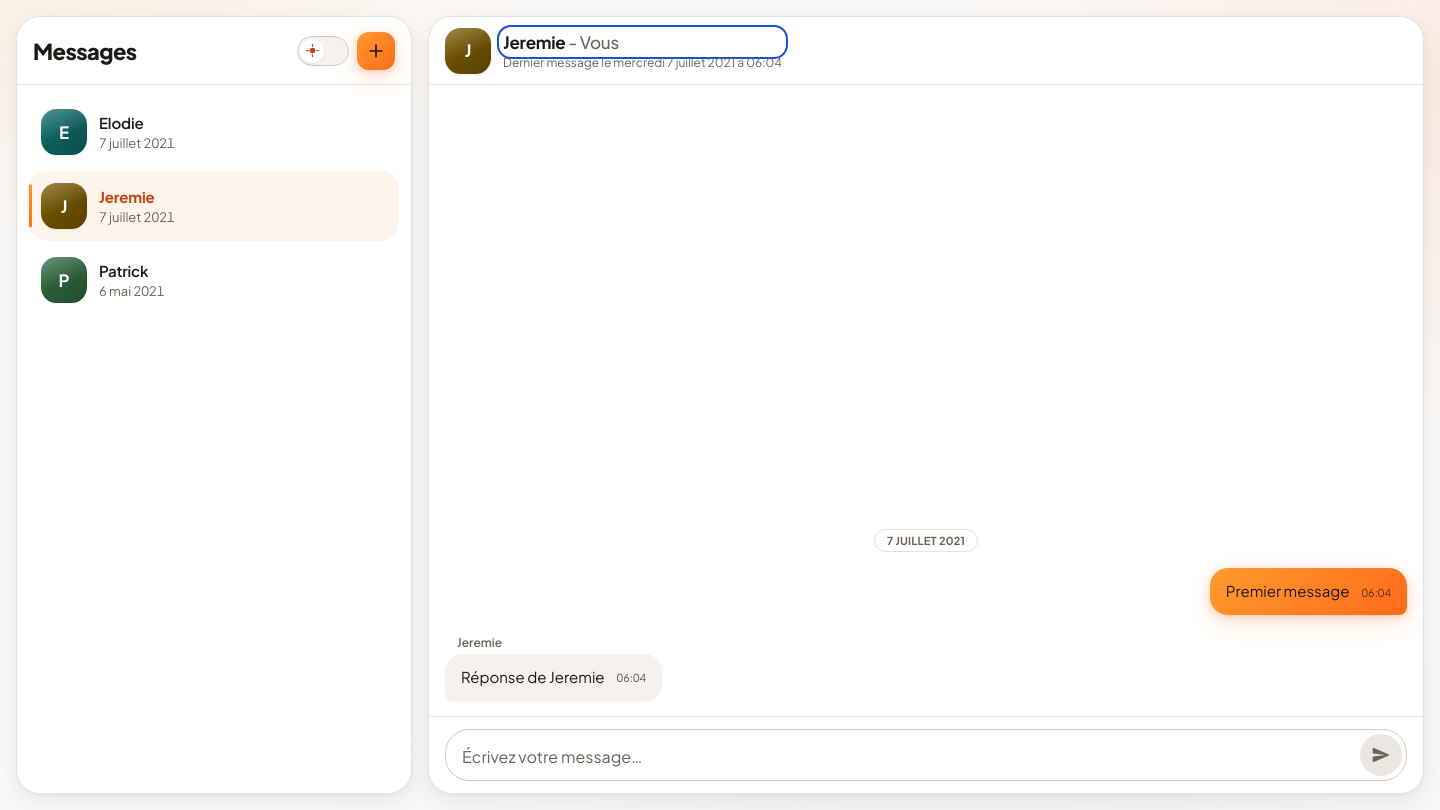
Test: sending a message › appends the message to the thread and posts it to the server
The image size is (1440, 810).
Expected: the text "Premier message" is shown, [1226,580,1350,602]
Step 1. Type "Bonjour Jeremie" into the text box named "Écrire un message" → [907, 757], box [462,738,1352,776]
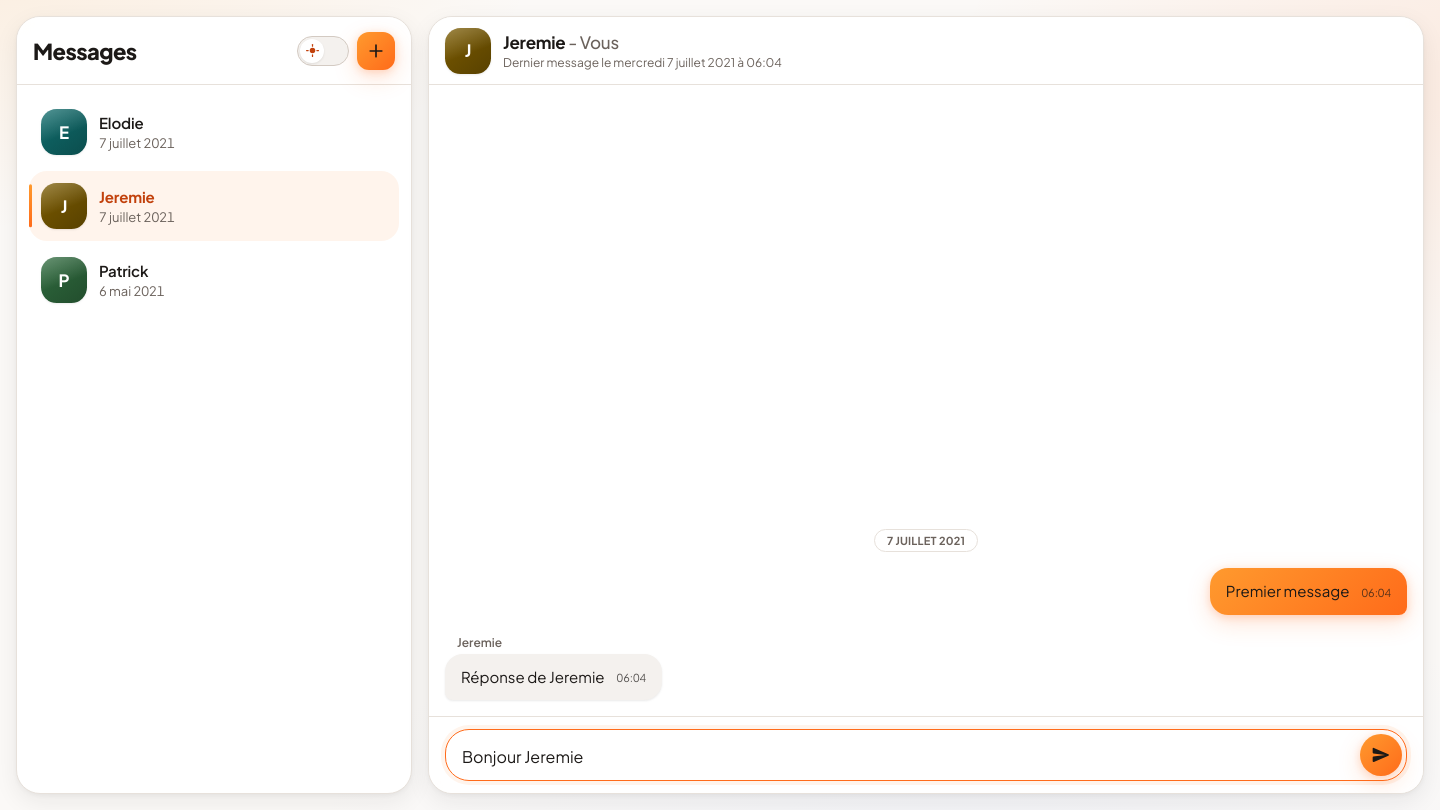
Step 2. Click the button named "Envoyer le message" → [1381, 755], box [1360,734,1402,776]
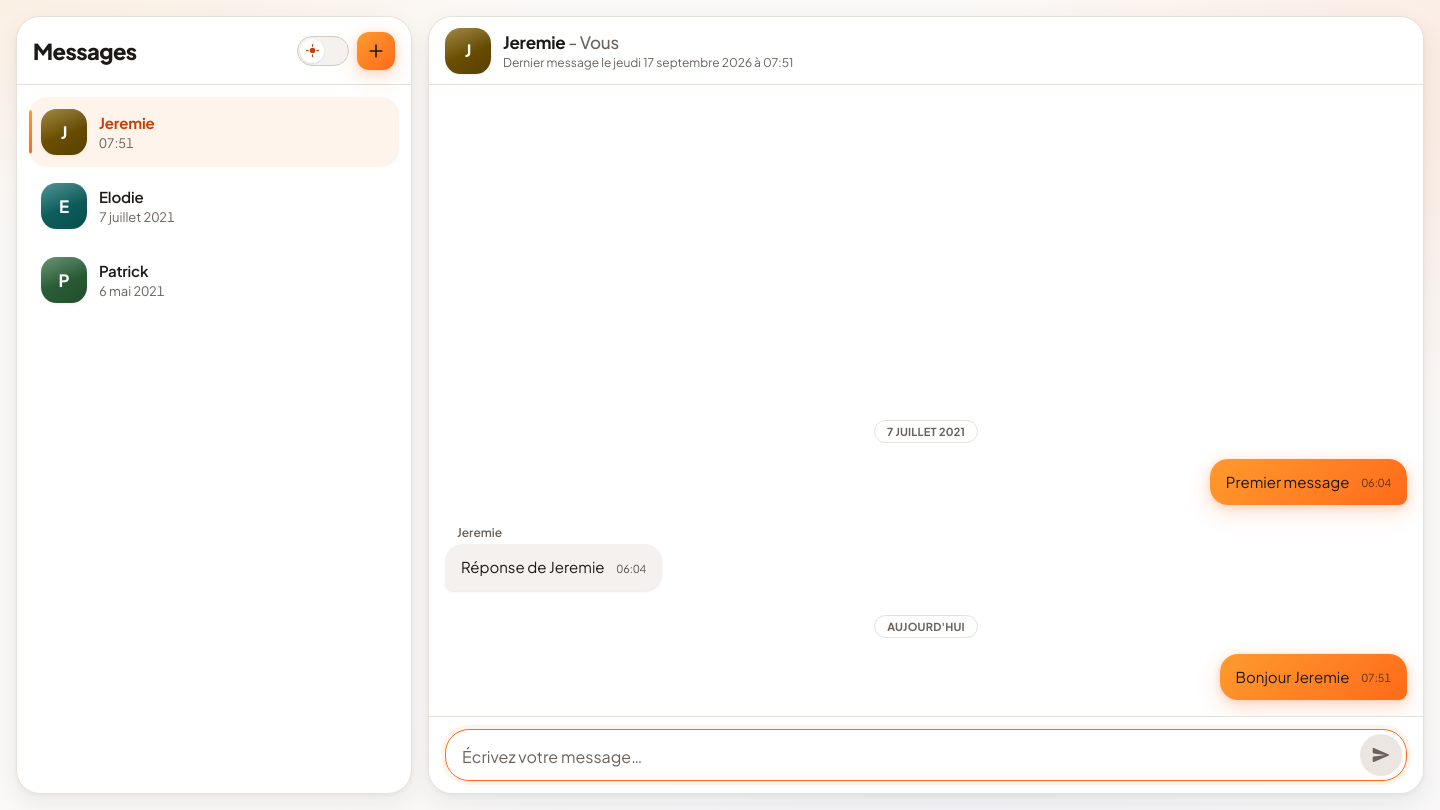
Now the text "Bonjour Jeremie" is shown, box [1236,666,1349,688]
